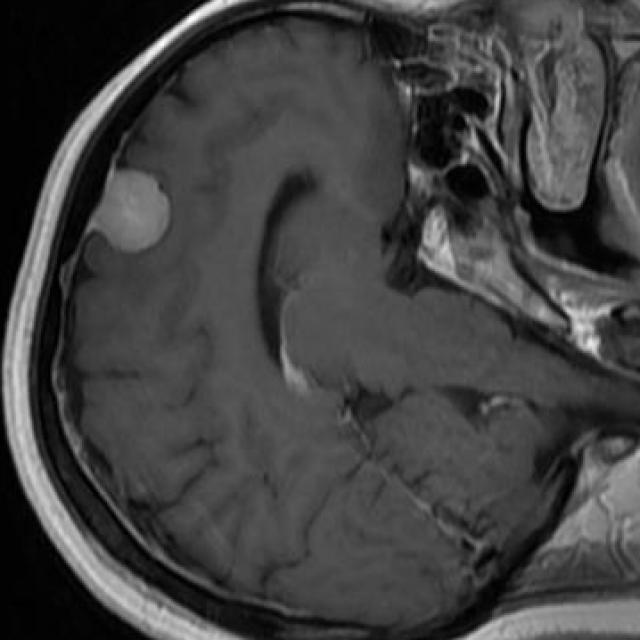meningioma: (91, 169, 169, 255)
